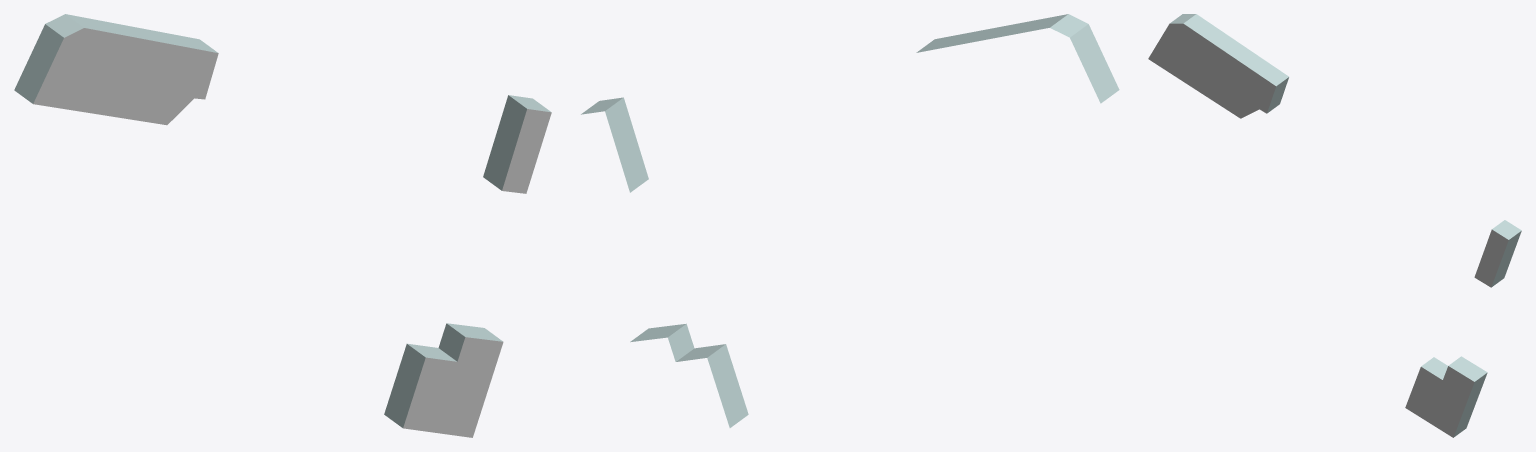
The picture shows the model from 3 angles, left to right: view 1: azimuth 30°, elevation 25°; view 2: azimuth 150°, elevation 25°; view 3: azimuth 330°, elevation 25°; orthographic projection. The views are drawn at different scales.
Parts seen in each view (by area): view 1: 0_3_1_2_3_3_1_2_3; view 2: 0_3_1_2_3_3_1_2_3; view 3: 0_3_1_2_3_3_1_2_3.
Part boxes in pixels (x1,y1,x2,y2): 0_3_1_2_3_3_1_2_3: (14, 14, 551, 437); 0_3_1_2_3_3_1_2_3: (581, 14, 1119, 427); 0_3_1_2_3_3_1_2_3: (1148, 14, 1521, 437).
Size of the model in its own units: 47.56 by 44.18 by 3.3.
